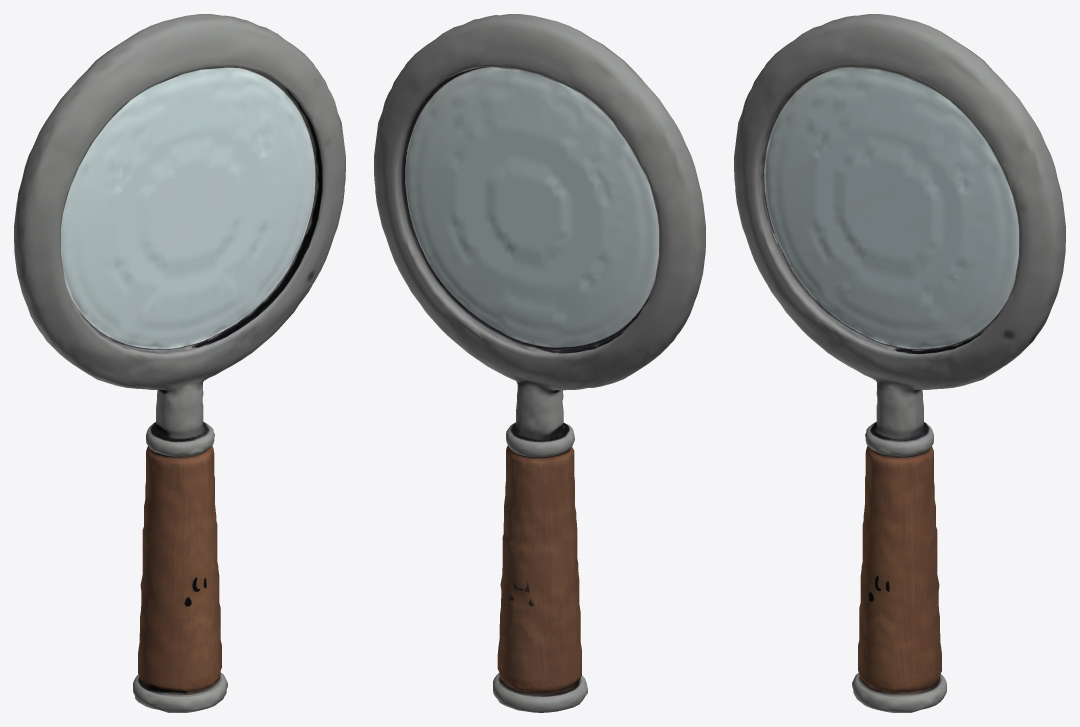
Rendered from info-ld.glb.
3 views of the same model, side by side, from view 1: azimuth 30°, elevation 25°; view 2: azimuth 150°, elevation 25°; view 3: azimuth 330°, elevation 25° (orthographic).
Bounding box in the file's own units: 0.9589 × 1.91 × 0.2387.
Materials: 1 (1 with a texture image).
